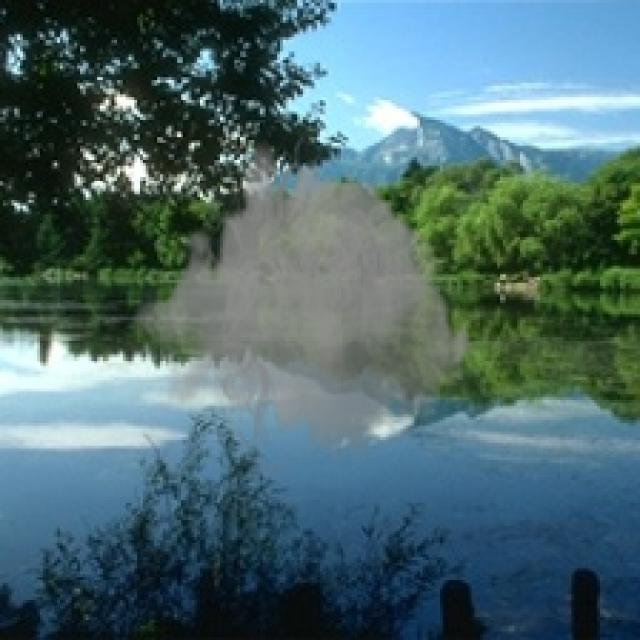smoke: (132, 128, 474, 488)
